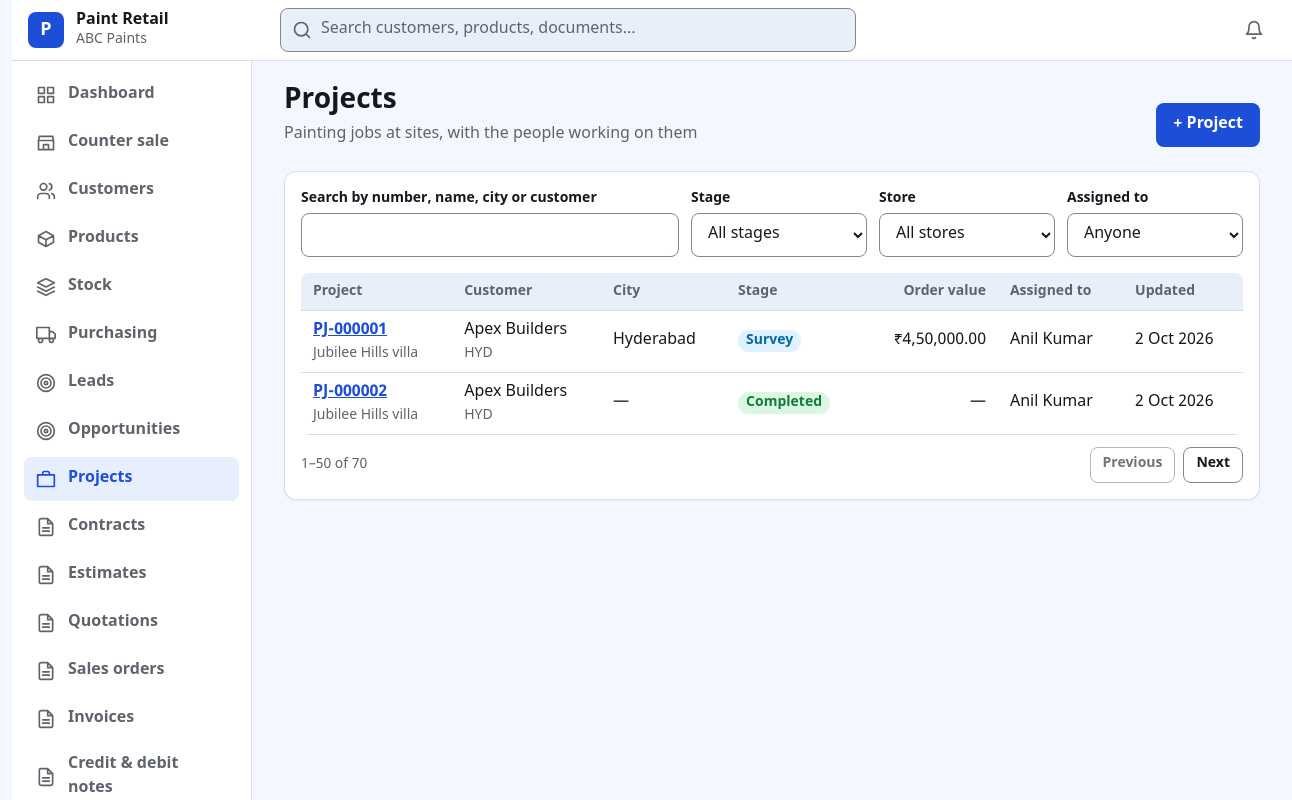
it: ProjectsPage › lists projects and filters them
Expected: the rows read "ProjectCustomerCityStageOrder valueAssigned toUpdated", "PJ-000001Jubilee Hills villaApex BuildersHYDHyderabadSurvey₹4,50,000.00Anil Kumar2 Oct 2026", "PJ-000002Jubilee Hills villaApex BuildersHYD—Completed—Anil Kumar2 Oct 2026", in this order, [301,273,1243,310]; [301,311,1243,372]; [301,372,1243,434]
Type "villa" into the search field labelled "Search by number, name, city or customer" at point(490, 235), box [301,213,679,257]
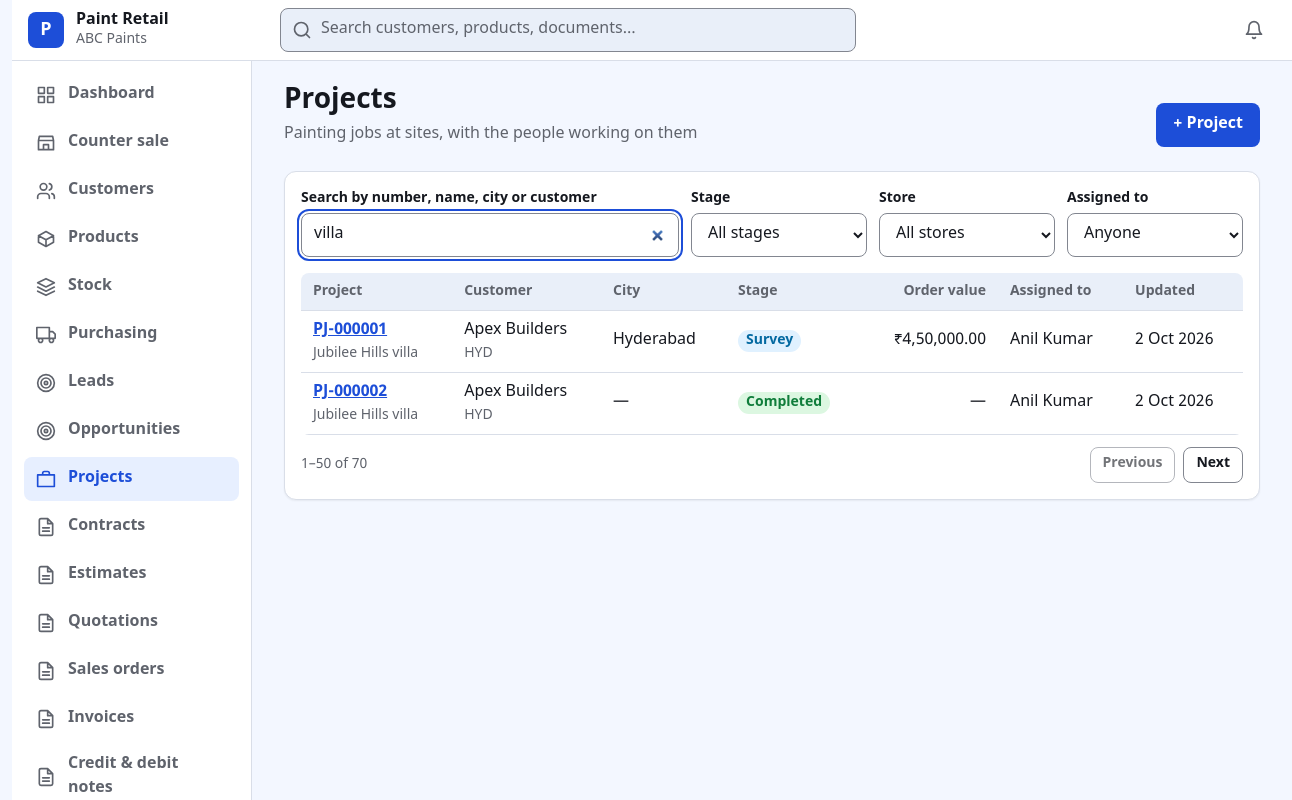
Select "Survey" in the dropdown labelled "Stage" at point(779, 235), box [691,213,867,257]
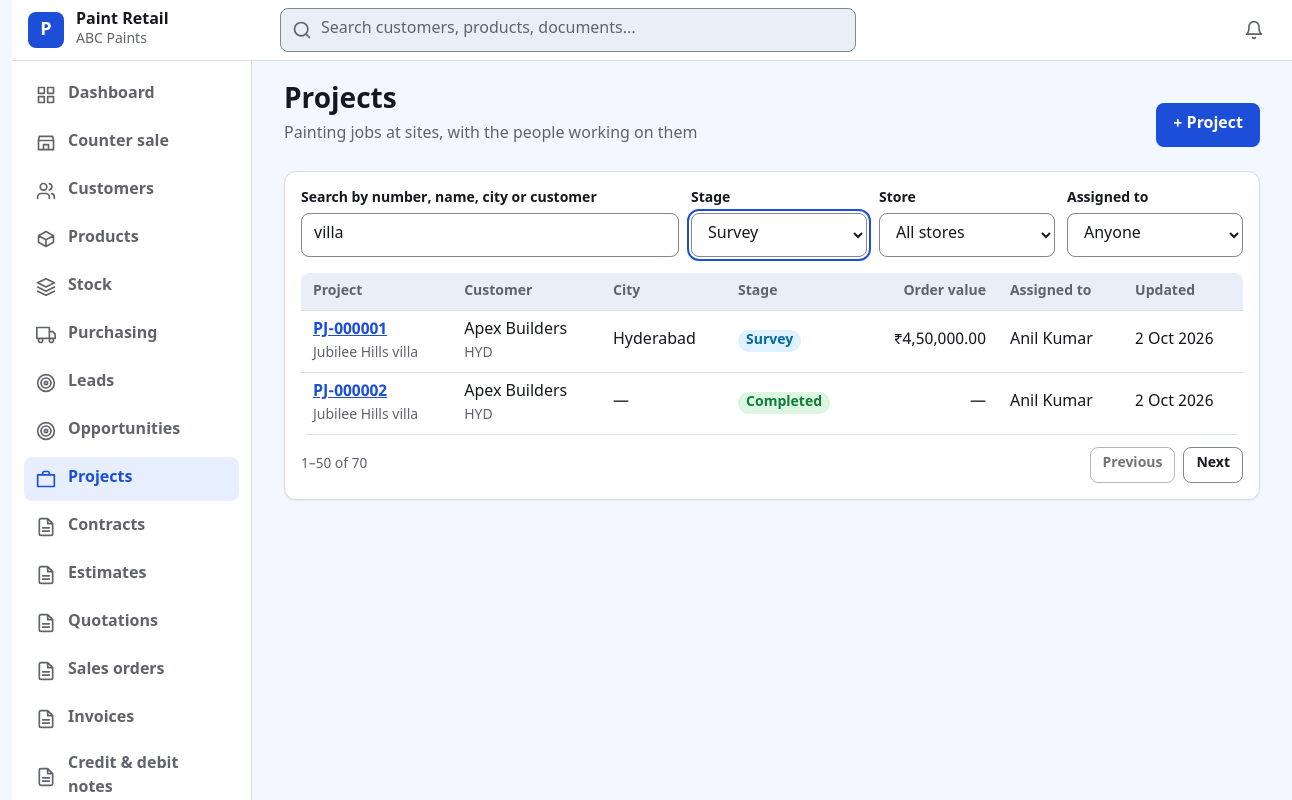
Select "HYD · Hyderabad" in the dropdown labelled "Store" at point(967, 235), box [879,213,1055,257]
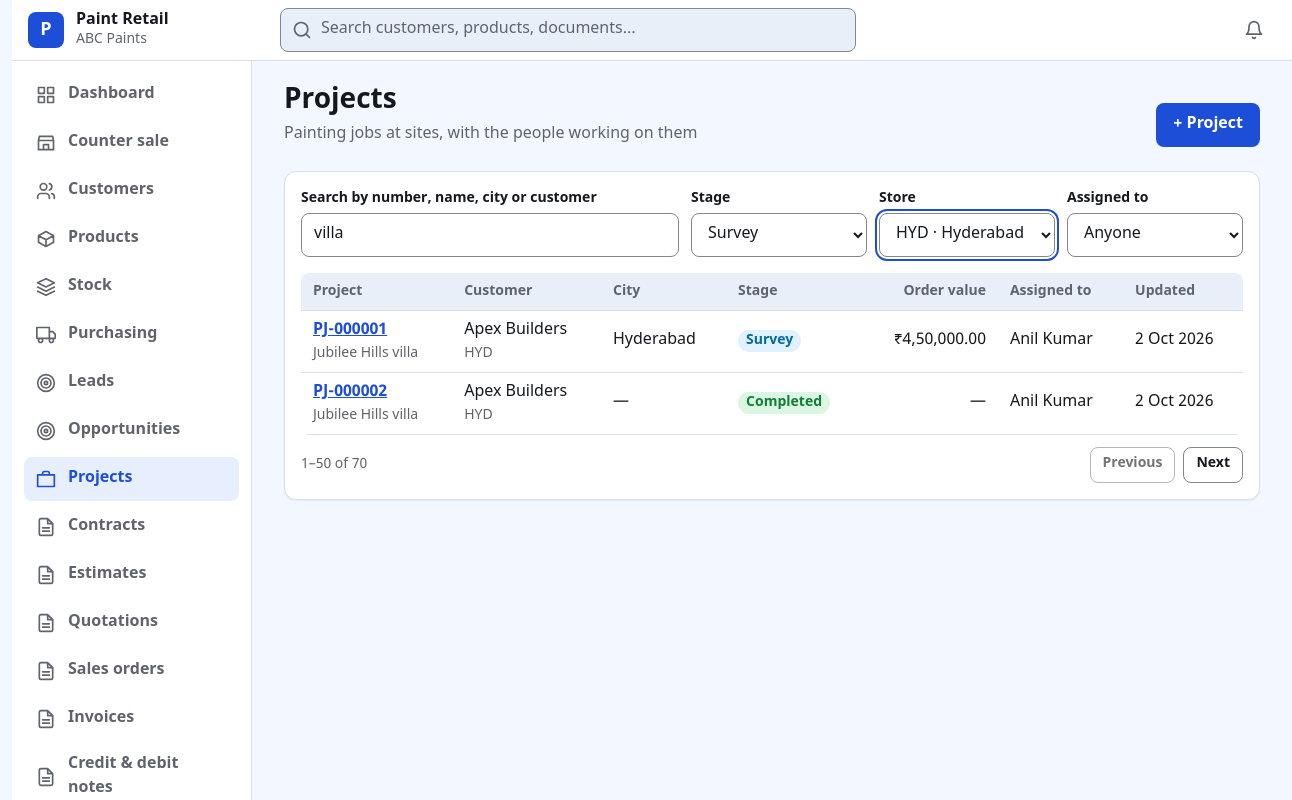
Select "Sita Sales" in the dropdown labelled "Assigned to" at point(1155, 235), box [1067,213,1243,257]
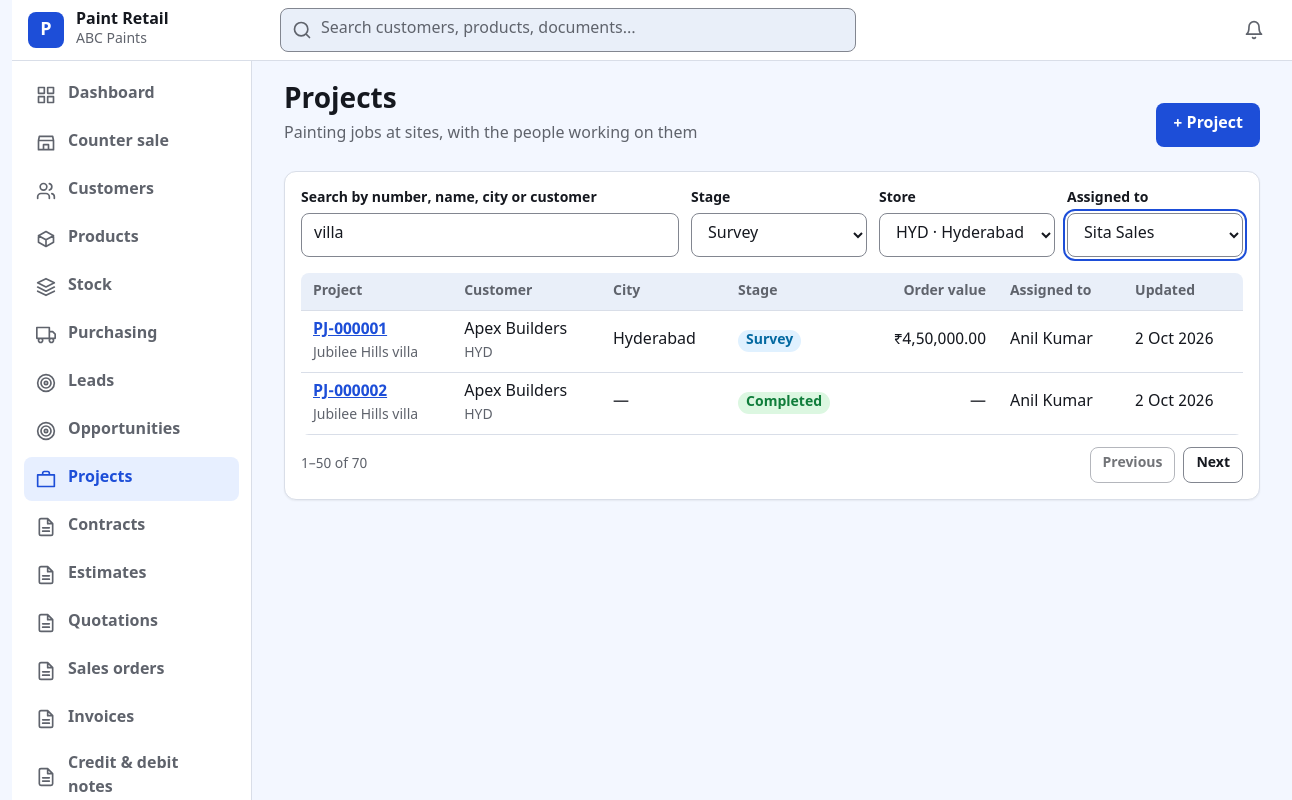
Click the button "Next" at point(1213, 465), box [1184,447,1243,483]
(page scrolled)
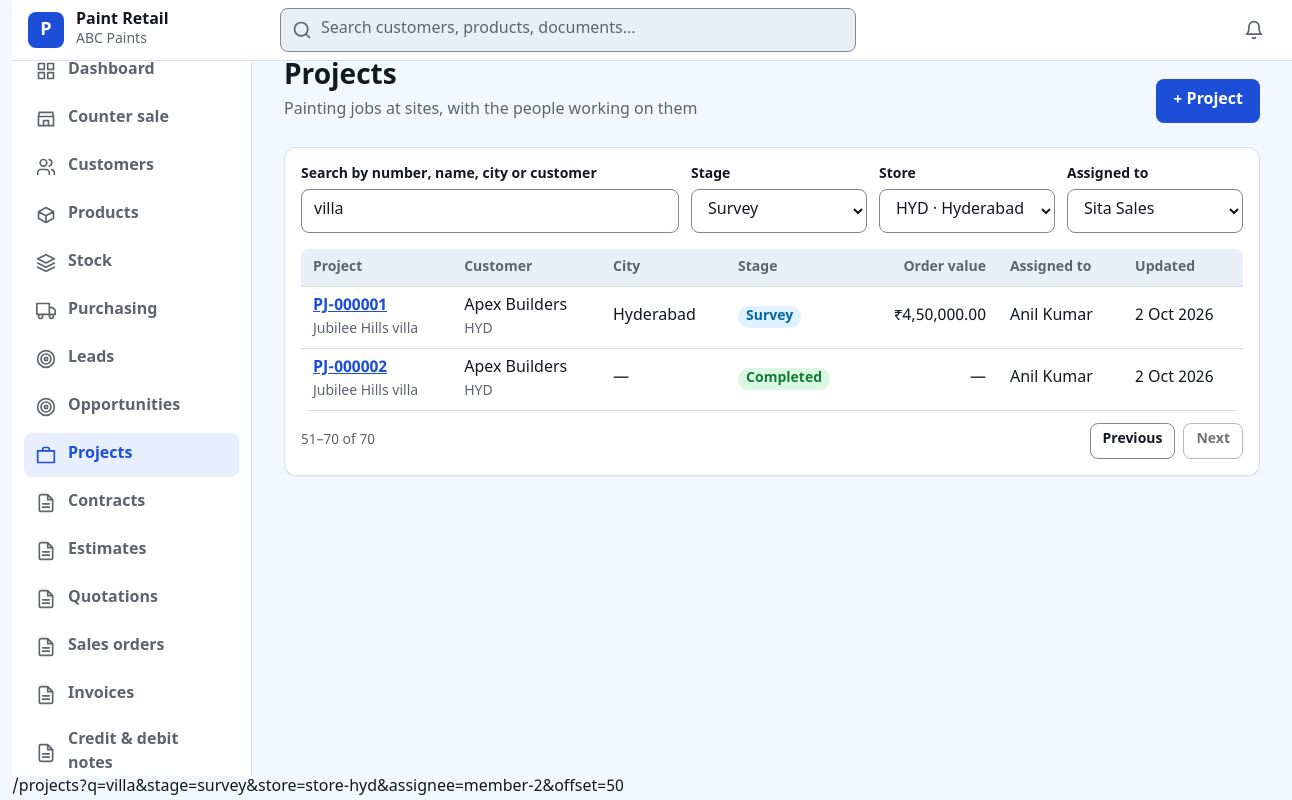
Now the text with test id "location" shows "offset=50", box [12,777,624,798]
